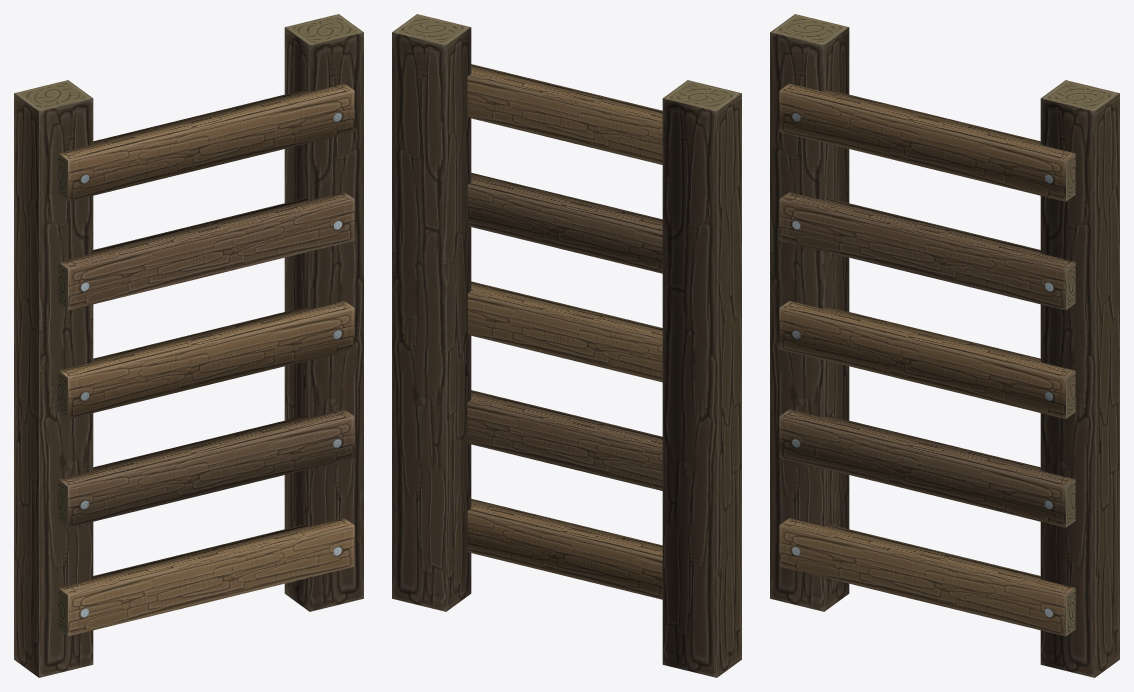
Rendered from SM_Ladder_1m_01_A.glb.
3 views of the same model, side by side, from view 1: azimuth 30°, elevation 25°; view 2: azimuth 150°, elevation 25°; view 3: azimuth 330°, elevation 25° (orthographic).
Parts seen in each view (by area): view 1: SM_Ladder_1m_01_A; view 2: SM_Ladder_1m_01_A; view 3: SM_Ladder_1m_01_A.
Boxes of the visible parts, x1=… form: SM_Ladder_1m_01_A: x1=14, y1=14, x2=363, y2=677; SM_Ladder_1m_01_A: x1=392, y1=14, x2=741, y2=677; SM_Ladder_1m_01_A: x1=770, y1=14, x2=1119, y2=677.
Size of the model in its own units: 0.6 by 1 by 0.1116.
1 material, 1 textured.
